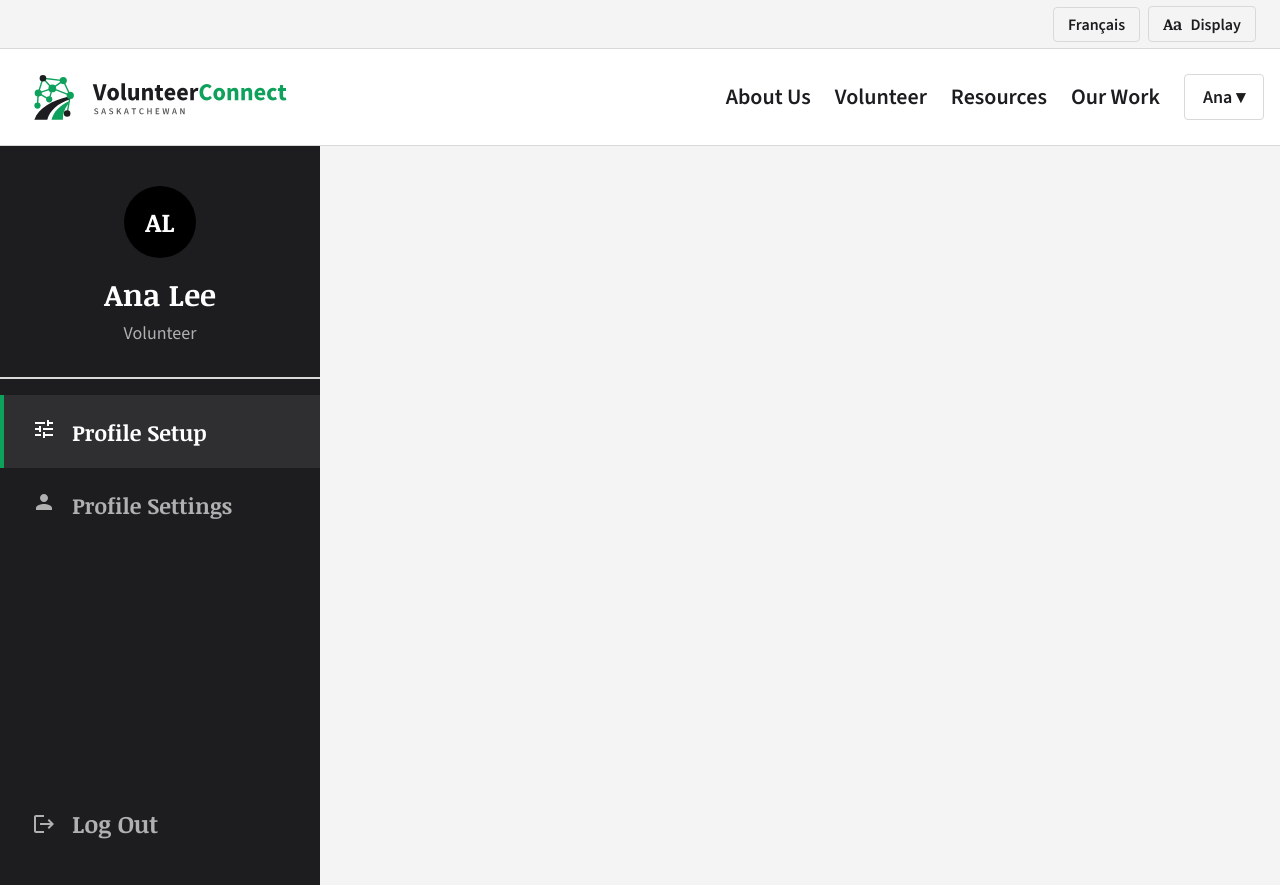
shows an error when saving the profile fails
What coordinates should you click on to do the following:
click the text "Profile Settings"
I would click on:
 (132, 504)
Its box is [32,490,232,520].
(page scrolled)
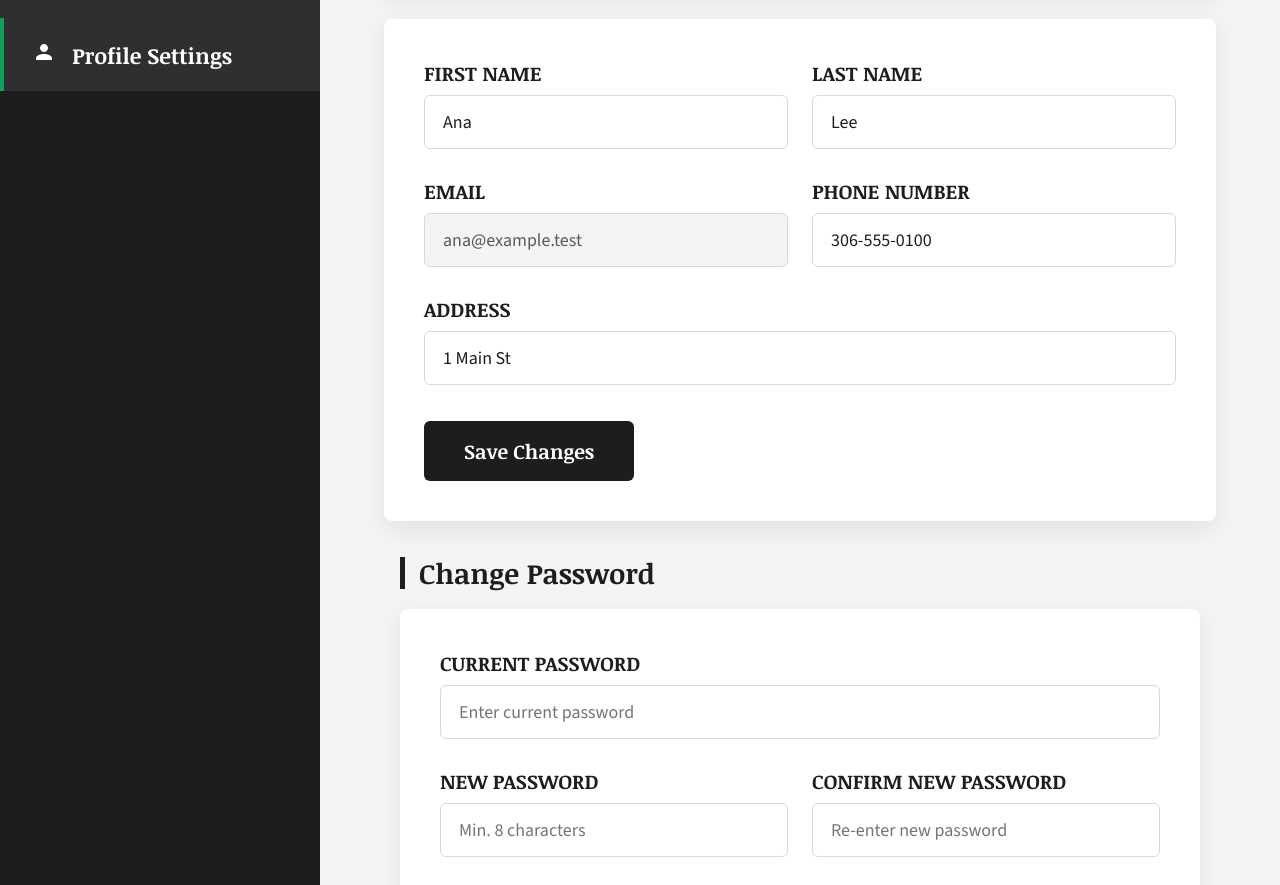
Now the field showing "306-555-0100" below "Phone Number" is shown, box [812,213,1176,267]
What coordinates should you click on to do the following:
click the button "Save Changes"
I would click on:
 (529, 451)
Its box is [424,421,634,481].
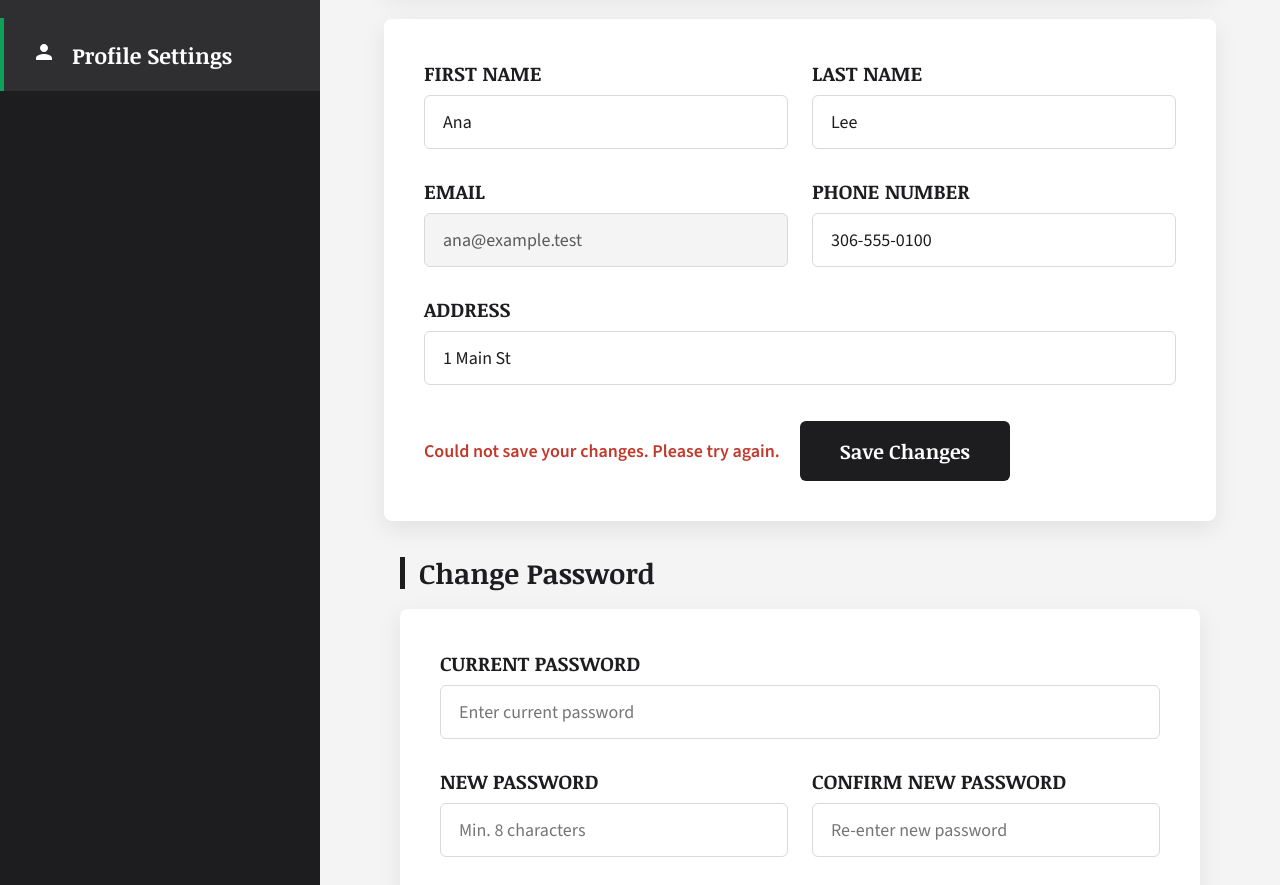
Now the text "Could not save your changes. Please try again." is shown, box [424,439,780,463]
